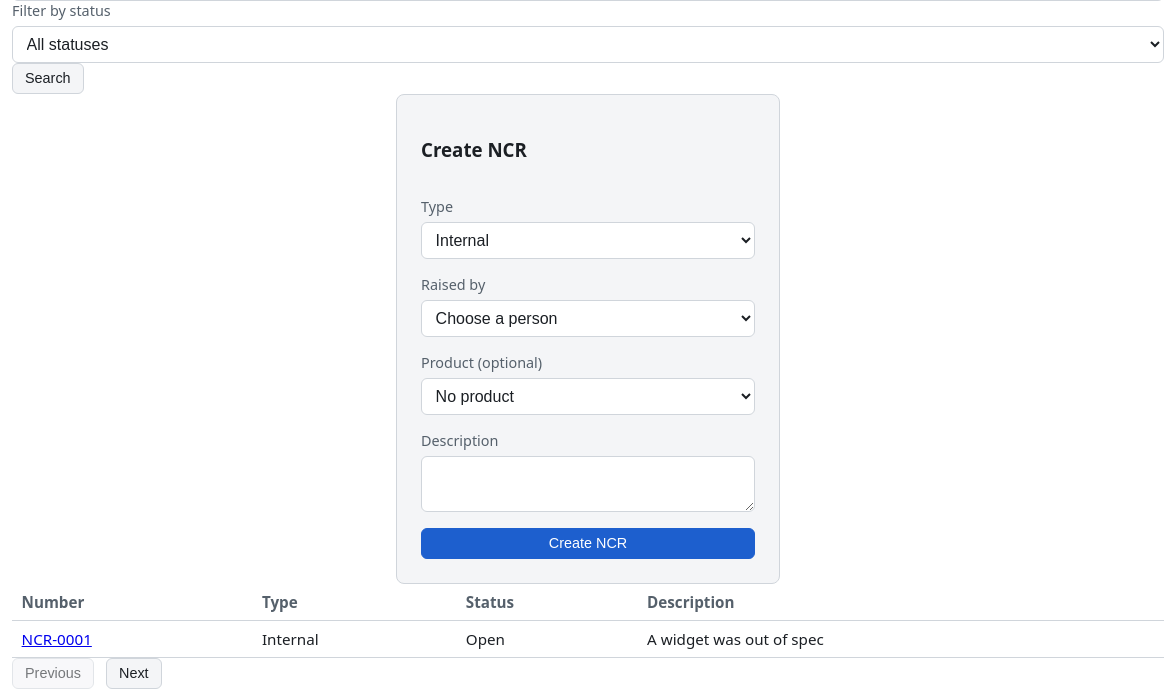
it: NcrsPage › paginates using the total count
(page scrolled)
Expected: the link "NCR-0001" is shown, [22, 629, 92, 649]
Expected: the button "Previous" is disabled, [12, 658, 94, 688]
Click the button "Next": [134, 673] box [106, 658, 162, 688]
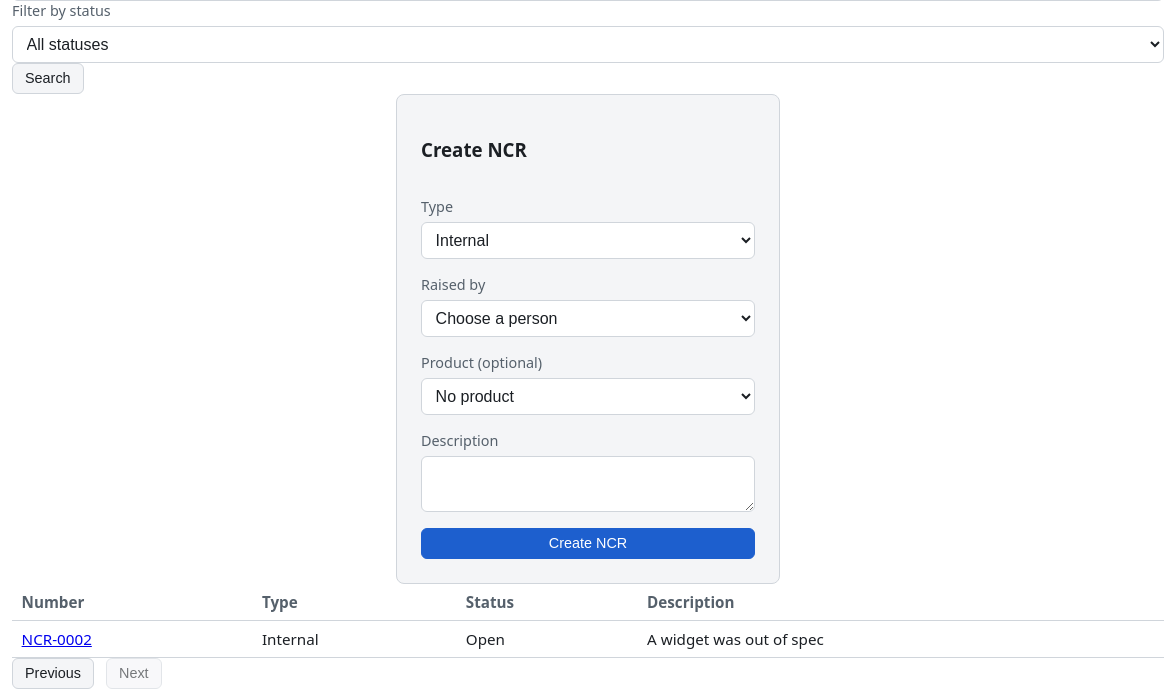
Now the link "NCR-0002" is shown, box [22, 629, 92, 649]
